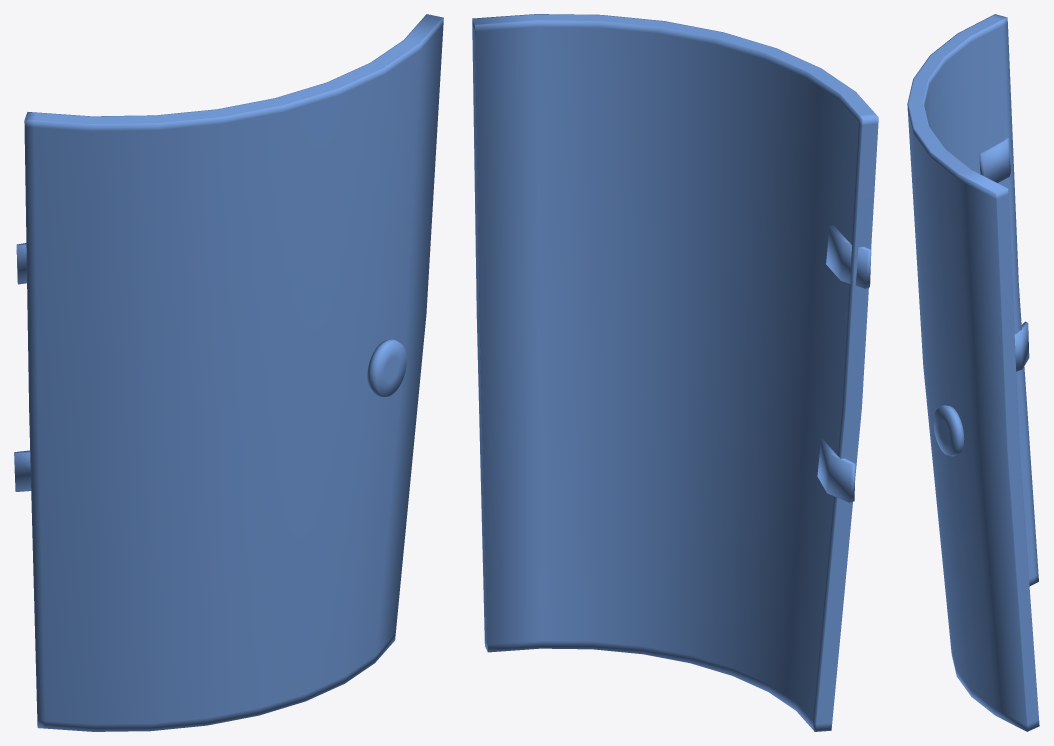
File: BenderFuturama.glb
3 renders of one model, left to right at view 1: azimuth 30°, elevation 25°; view 2: azimuth 150°, elevation 25°; view 3: azimuth 270°, elevation 25°, orthographic. The views are drawn at different scales.
Visible parts, largest first — view 1: Circle.004; view 2: Circle.004; view 3: Circle.004.
Part boxes in pixels (box(x1,y1,x2,y2)): Circle.004: box(14, 14, 443, 731); Circle.004: box(472, 14, 878, 731); Circle.004: box(907, 14, 1039, 731).
Bounding box in the file's own units: 1.01 × 1.44 × 0.3128.
